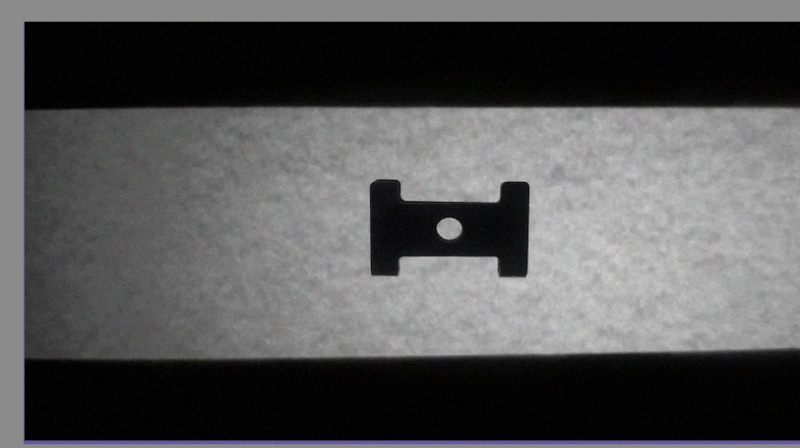O002: (364, 176, 534, 279)
